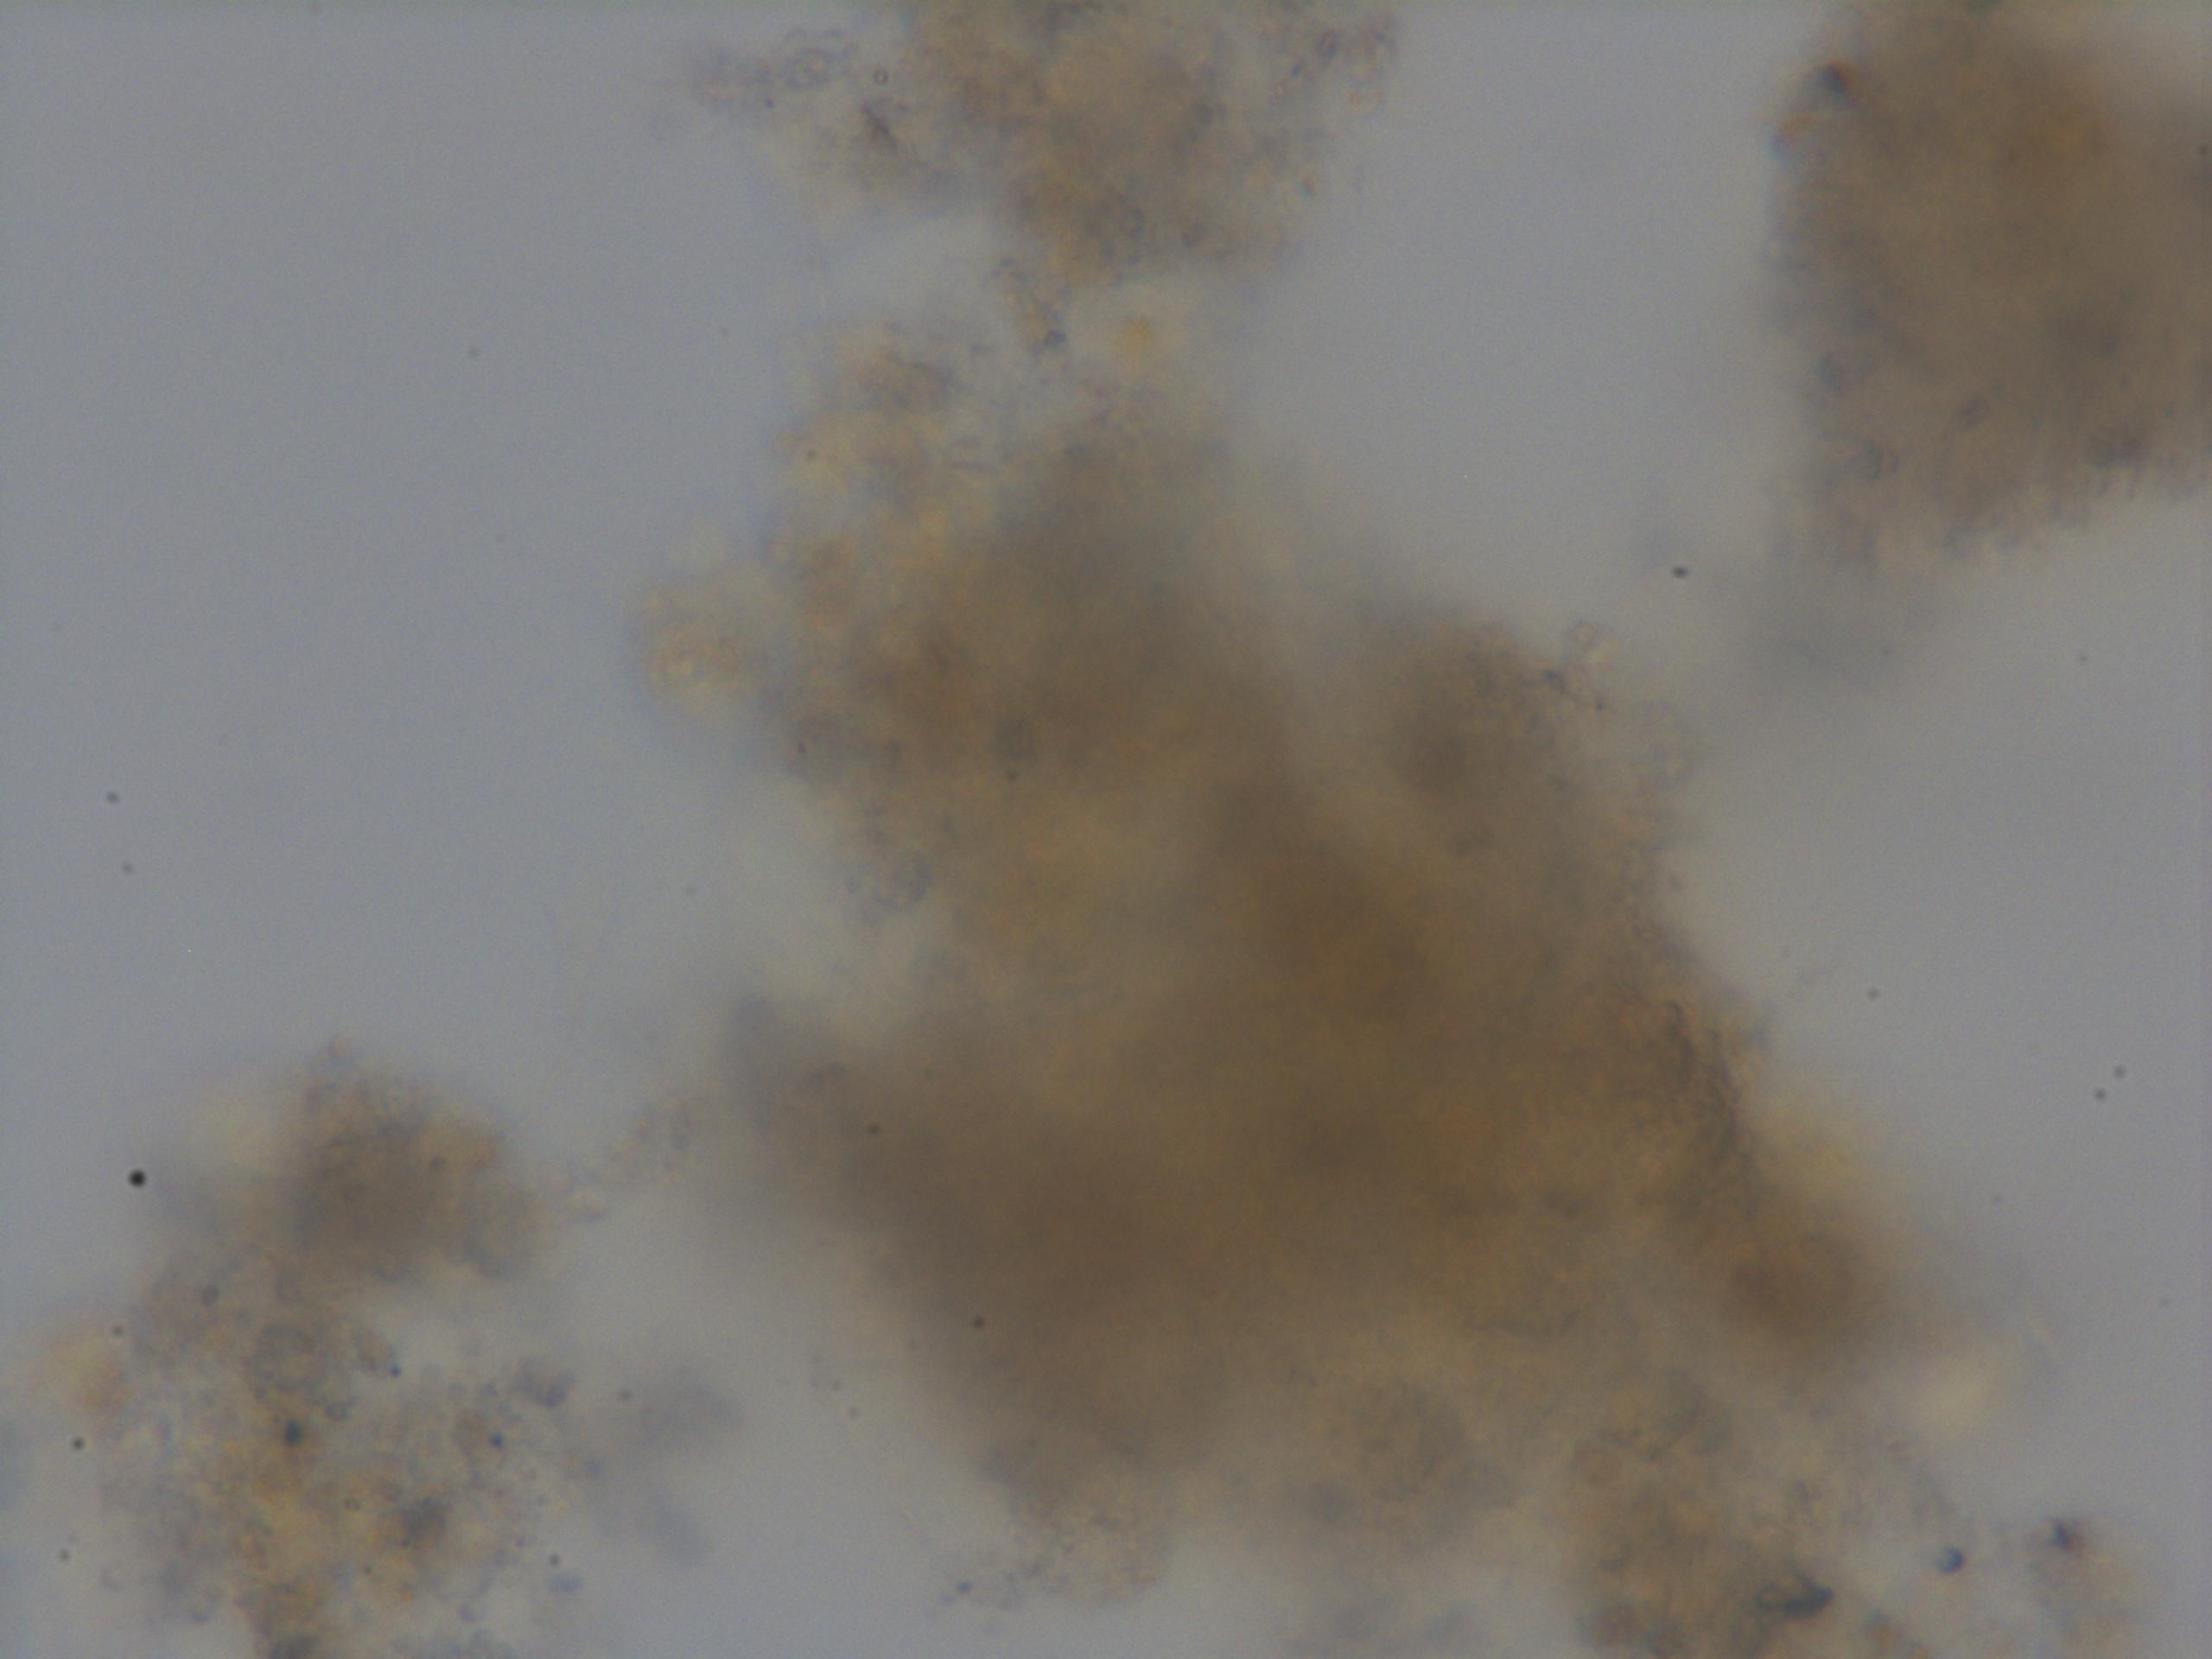open_floc: (54, 0, 1824, 1659)
